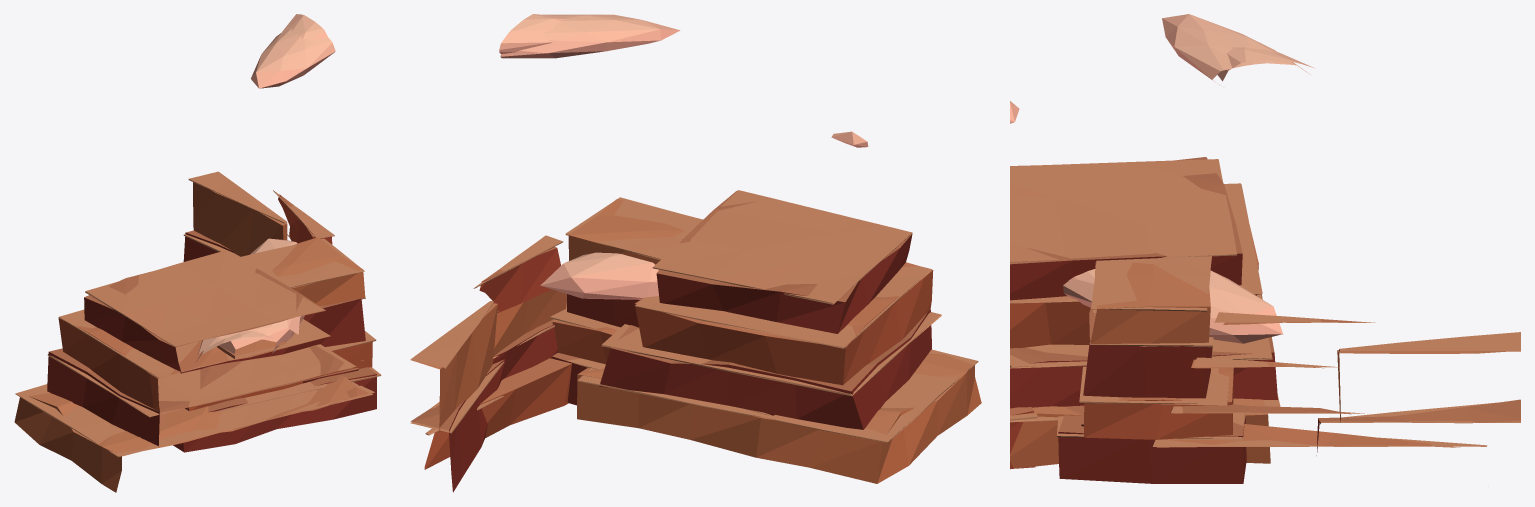
3 views of the same model, side by side, from view 1: azimuth 30°, elevation 25°; view 2: azimuth 150°, elevation 25°; view 3: azimuth 270°, elevation 25° (orthographic). The views are drawn at different scales.
Parts seen in each view (by area): view 1: scene.1.1 (×2); view 2: scene.1.1 (×2); view 3: scene.1.1 (×2).
Part boxes in pixels (bbox=[...]): scene.1.1 (×2): bbox=[14, 14, 381, 492]; scene.1.1 (×2): bbox=[410, 14, 981, 492]; scene.1.1 (×2): bbox=[1010, 14, 1520, 483].
Bounding box in the file's own units: 57.02 × 58.67 × 62.5.
